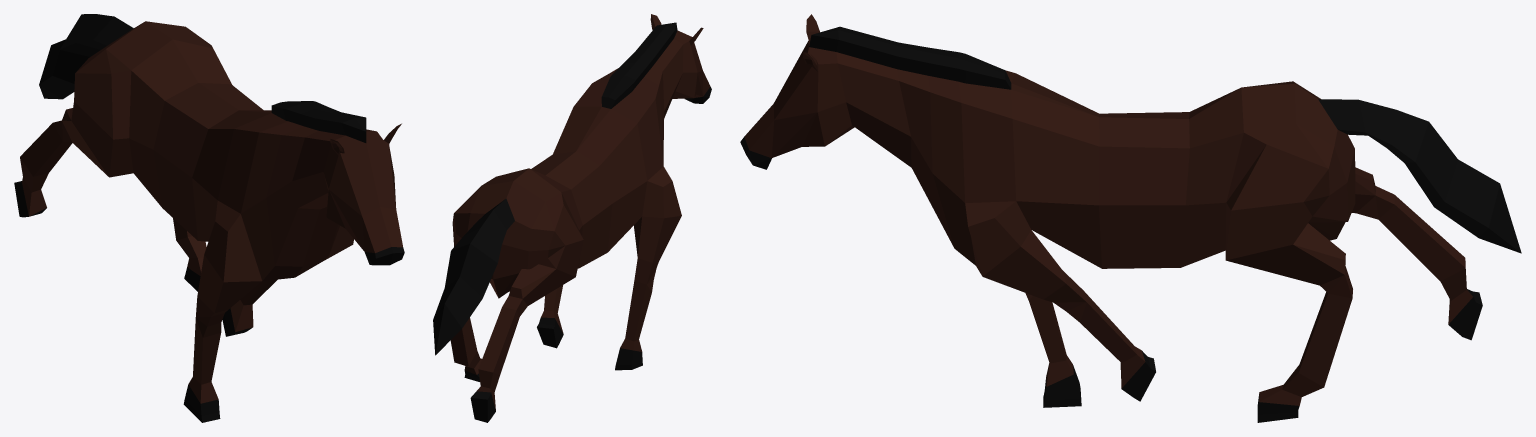
Rendered from Horse_000020.obj.
3 renders of one model, left to right at view 1: azimuth 30°, elevation 25°; view 2: azimuth 150°, elevation 25°; view 3: azimuth 270°, elevation 25°, orthographic. The views are drawn at different scales.
Visible parts, largest first — view 1: Horse_Cylinder; view 2: Horse_Cylinder; view 3: Horse_Cylinder.
Part boxes in pixels (x1=…): Horse_Cylinder: x1=14, y1=14, x2=404, y2=422; Horse_Cylinder: x1=433, y1=14, x2=711, y2=422; Horse_Cylinder: x1=740, y1=14, x2=1521, y2=422.
Bounding box in the file's own units: 2.61 × 6.06 × 10.69.
